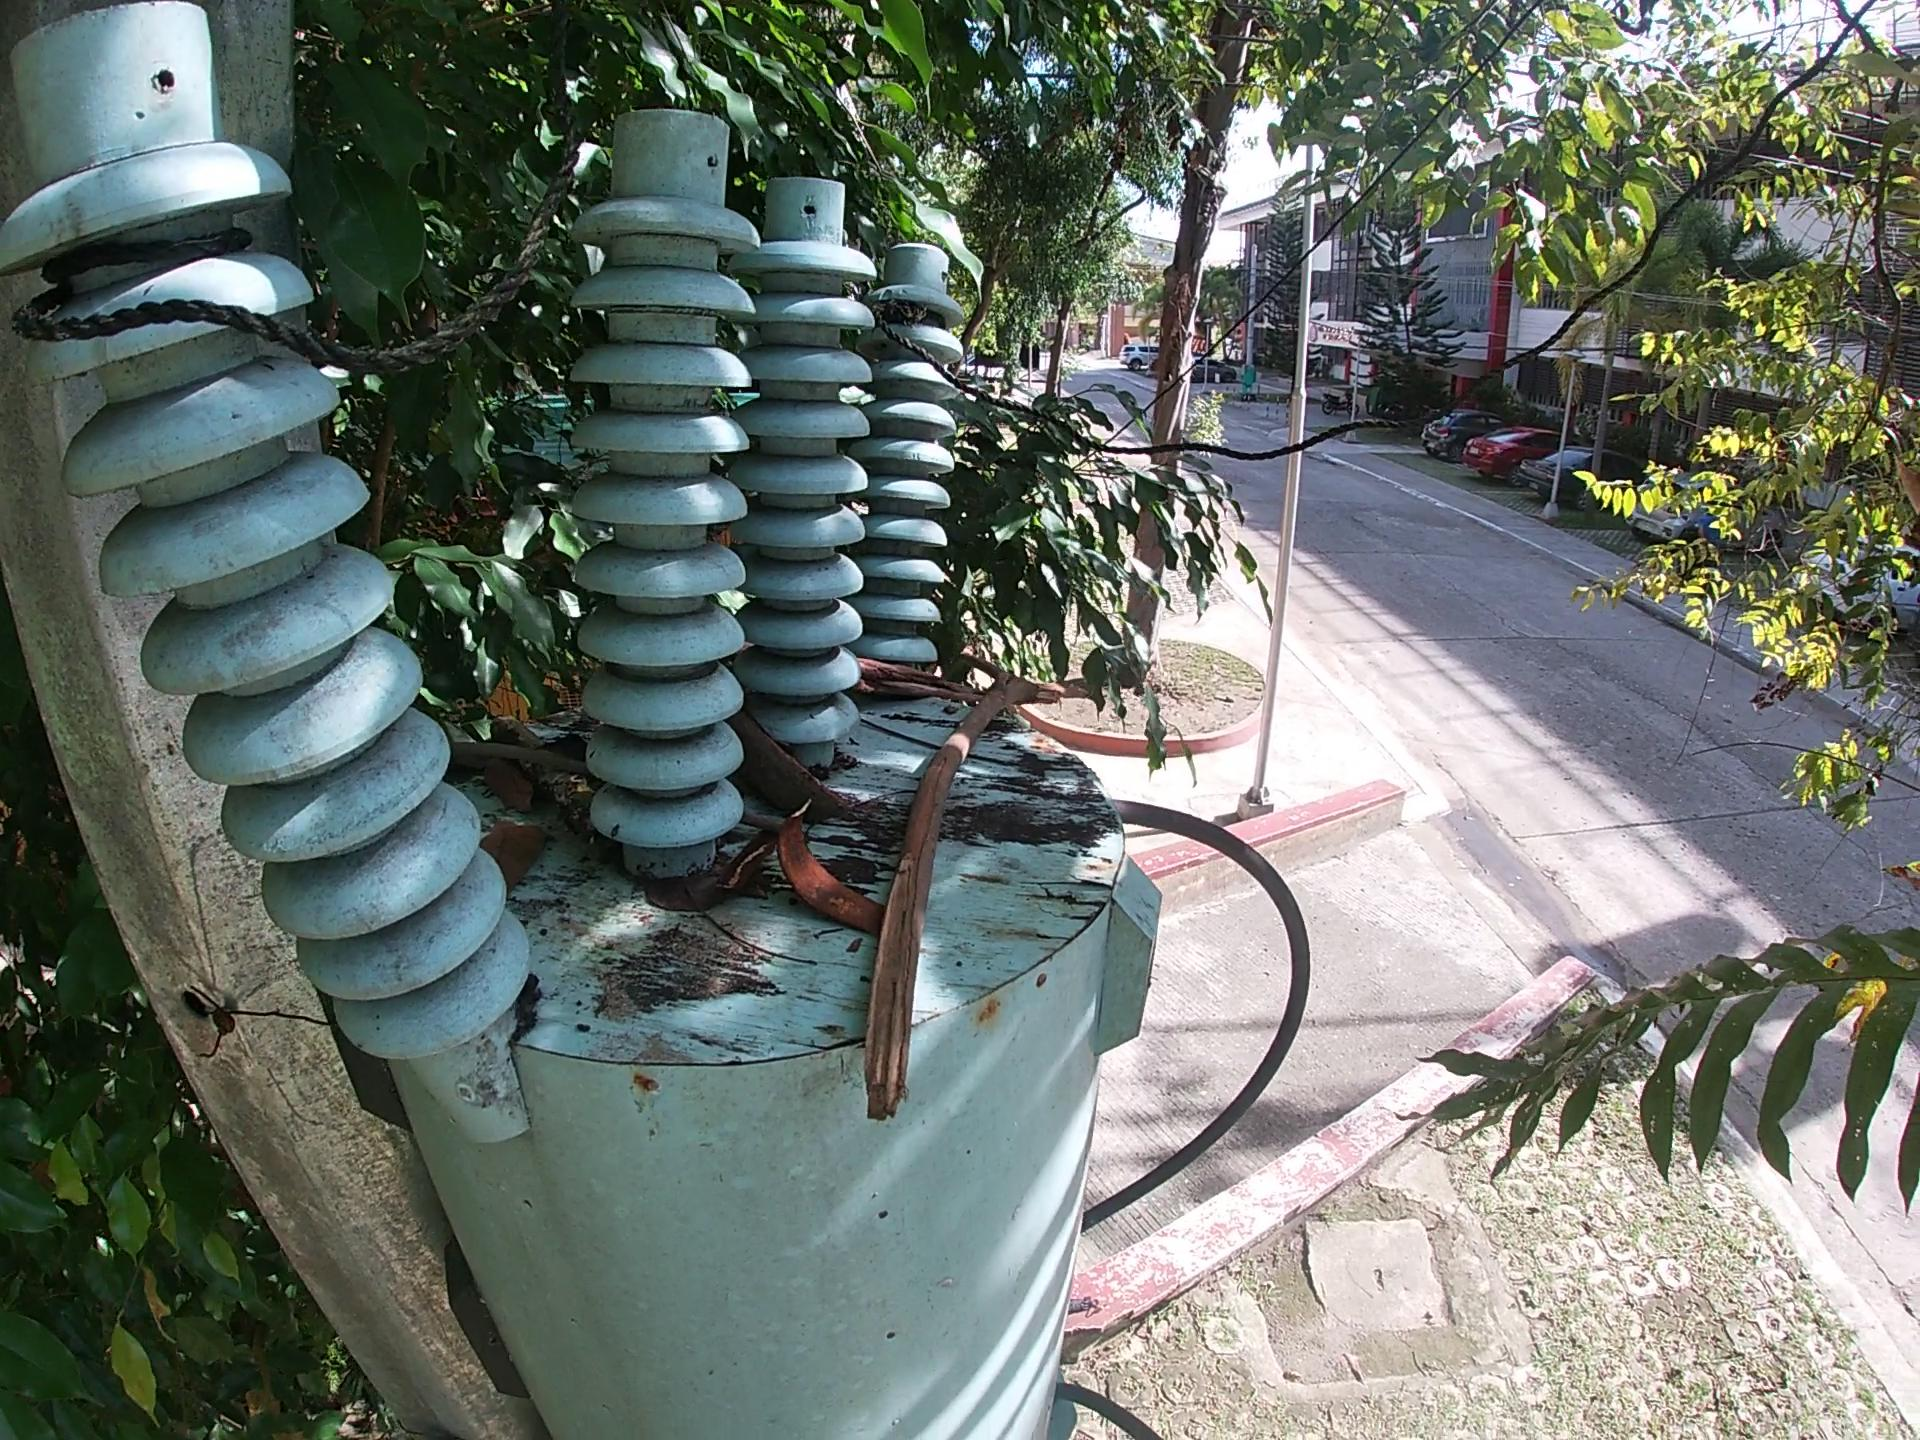leaf: (472, 808, 549, 889), (635, 864, 732, 917), (481, 755, 541, 815)
mahogany fruit: (776, 797, 890, 941), (723, 709, 853, 821), (711, 826, 782, 892)
tree branch: (856, 644, 1092, 1131), (485, 711, 611, 849), (844, 647, 984, 709), (443, 737, 599, 777), (733, 808, 786, 833)
